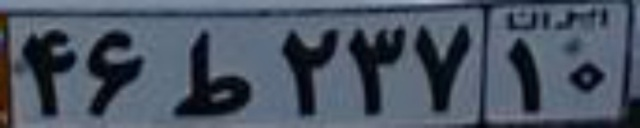0: (563, 62, 612, 94)
1: (507, 38, 541, 112)
2: (277, 29, 336, 116)
3: (347, 27, 405, 116)
4: (19, 28, 78, 116)
6: (85, 31, 143, 115)
7: (415, 24, 472, 113)
taa: (173, 30, 254, 118)
